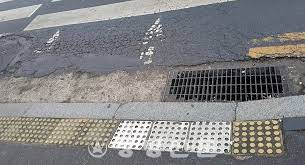guide_blocks: (1, 118, 282, 157)
